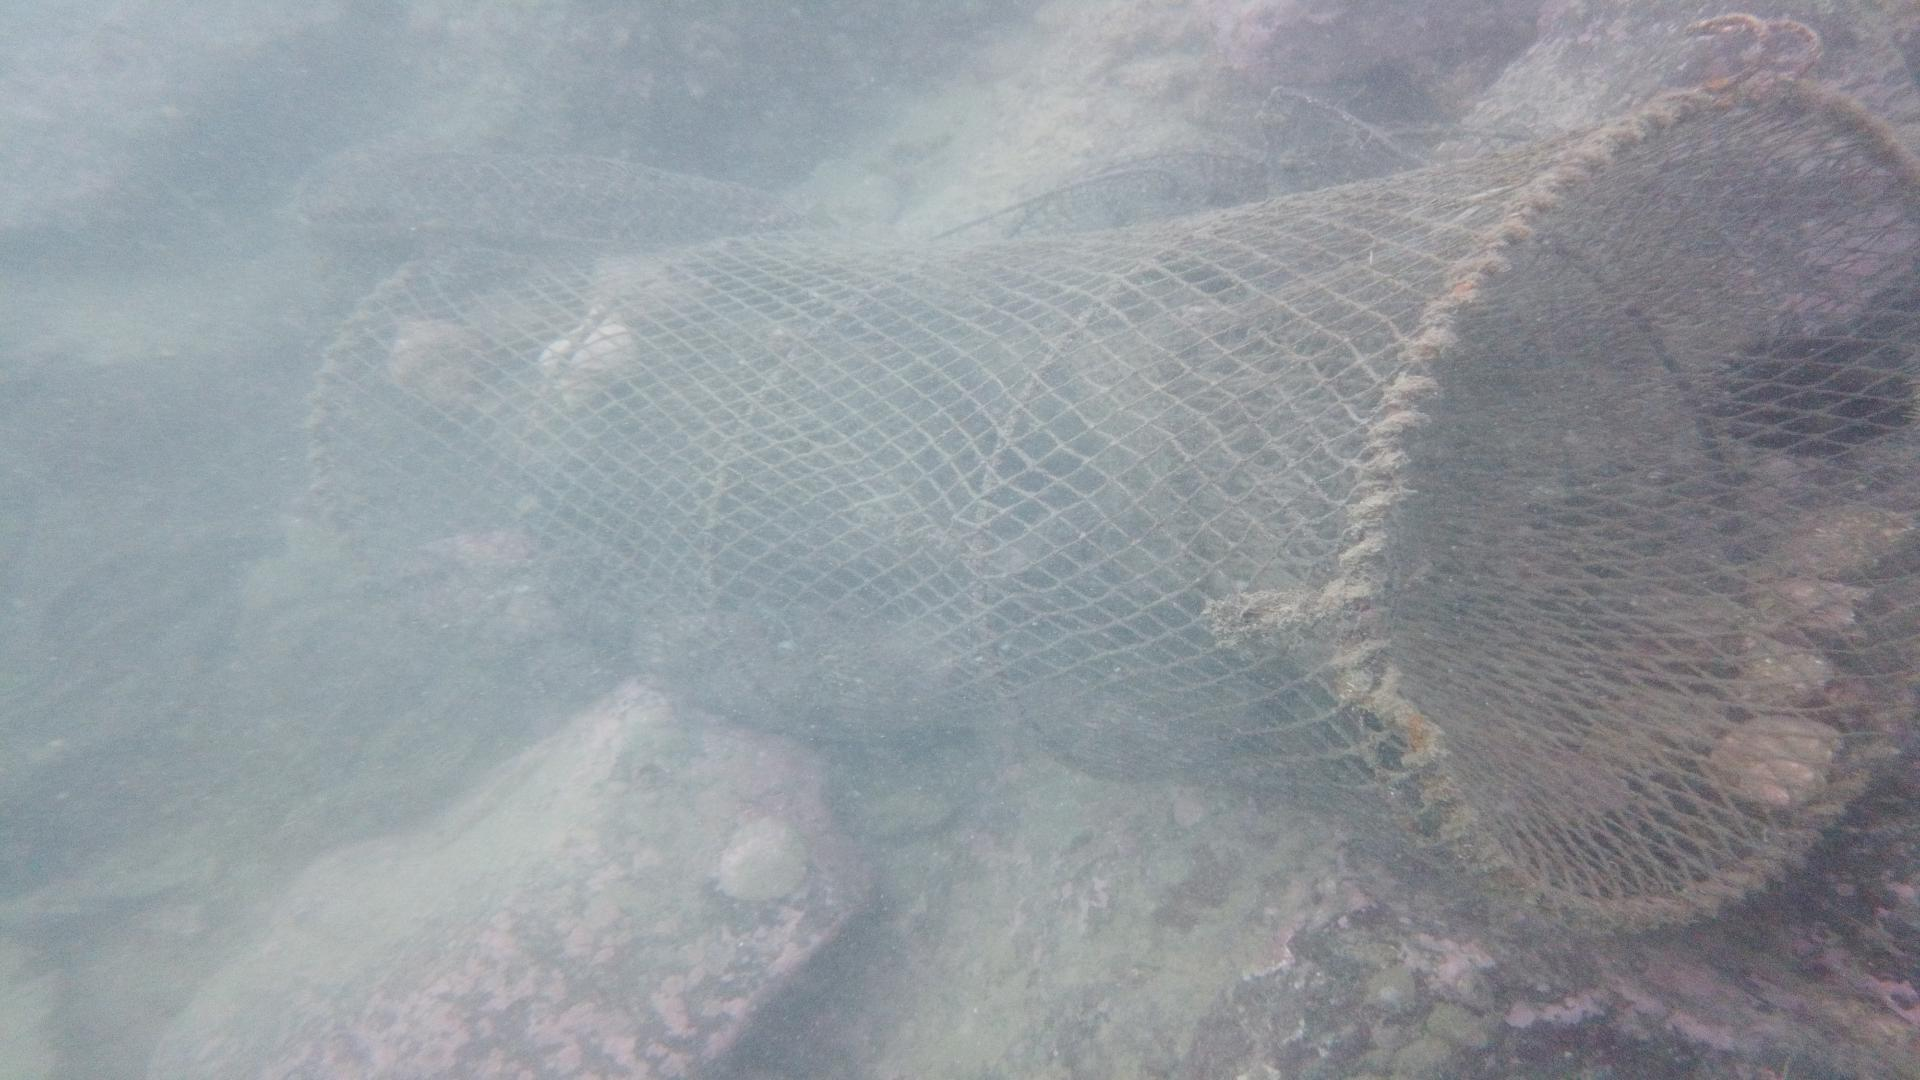spring fish trap: (302, 69, 1920, 938)
